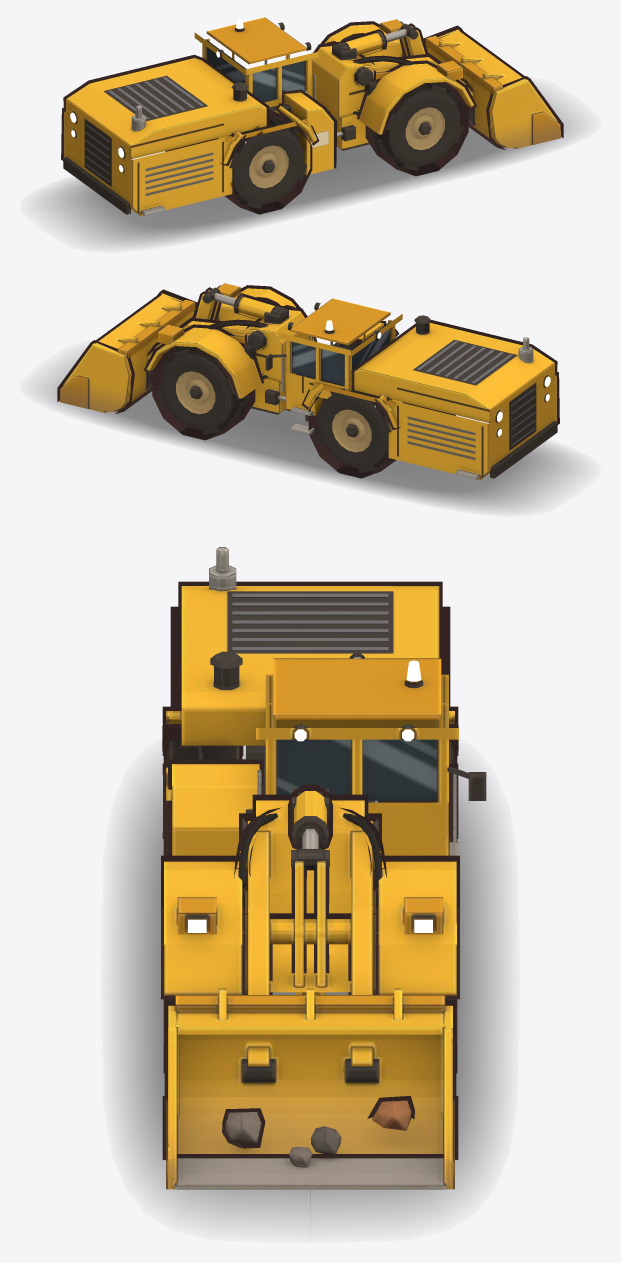
File: lhd.glb
3 renders of one model, top to bottom at view 1: azimuth 30°, elevation 25°; view 2: azimuth 150°, elevation 25°; view 3: azimuth 270°, elevation 25°, orthographic. The views are drawn at different scales.
Parts seen in each view (by area): view 1: lhd_body, SHADOW, WHEEL_FR, WHEEL_RR; view 2: lhd_body, SHADOW, WHEEL_FL, WHEEL_RL; view 3: lhd_body, SHADOW, WHEEL_RR, LAMPS.
Part boxes in pixels (x1,y1,x2,y2): lhd_body: (61, 17, 563, 216); SHADOW: (43, 95, 577, 245); WHEEL_FR: (365, 82, 468, 176); WHEEL_RR: (224, 110, 312, 214); lhd_body: (57, 283, 559, 479); SHADOW: (43, 359, 577, 509); WHEEL_FL: (152, 346, 255, 440); WHEEL_RL: (308, 383, 396, 478); lhd_body: (160, 547, 486, 1189); SHADOW: (117, 746, 503, 1228); WHEEL_RR: (163, 724, 242, 855); LAMPS: (188, 657, 432, 932).
Bounding box in the file's own units: 19.5 × 4.71 × 6.58.
3 materials, 1 textured.
